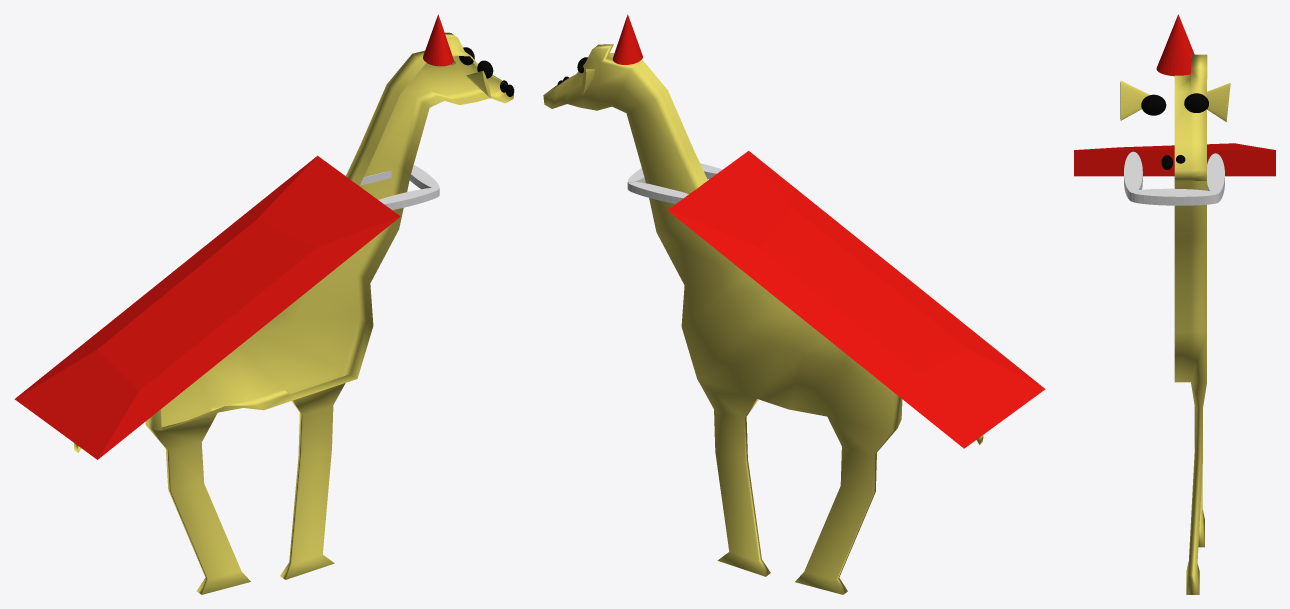
The model's file is superheld1.glb.
The picture shows the model from 3 angles, left to right: view 1: azimuth 30°, elevation 25°; view 2: azimuth 150°, elevation 25°; view 3: azimuth 270°, elevation 25°; orthographic projection. The views are drawn at different scales.
Visible parts, largest first — view 1: Plane.001, Cube, Cone.002, Cylinder.001; view 2: Plane.001, Cube, Cone.002, Cylinder.002; view 3: Plane.001, Cube, Cone.002, Cylinder, Cylinder.001, Cone, Cylinder.002, Cone.001, Sphere, Sphere.001.
Part boxes in pixels (x1,y1,x2,y2): Plane.001: (74,32,514,594); Cube: (14,155,400,459); Cone.002: (423,14,453,66); Cylinder.001: (378,187,439,209); Plane.001: (543,44,983,594); Cube: (667,151,1045,448); Cone.002: (612,14,642,64); Cylinder.002: (628,182,688,203); Plane.001: (1174,54,1207,594); Cube: (1074,143,1275,176); Cone.002: (1156,14,1194,76); Cylinder: (1132,188,1217,205); Cylinder.001: (1124,151,1142,201); Cone: (1120,80,1149,120); Cylinder.002: (1207,153,1224,203); Cone.001: (1207,83,1230,121); Sphere: (1141,94,1166,115); Sphere.001: (1184,93,1208,112).
Size of the model in its own units: 2.23 by 2.47 by 0.7003.
